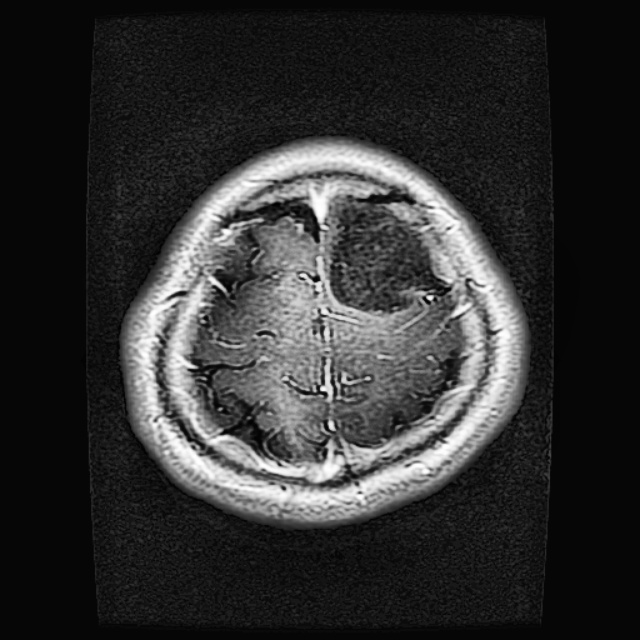Glioma: (322, 193, 453, 315)
